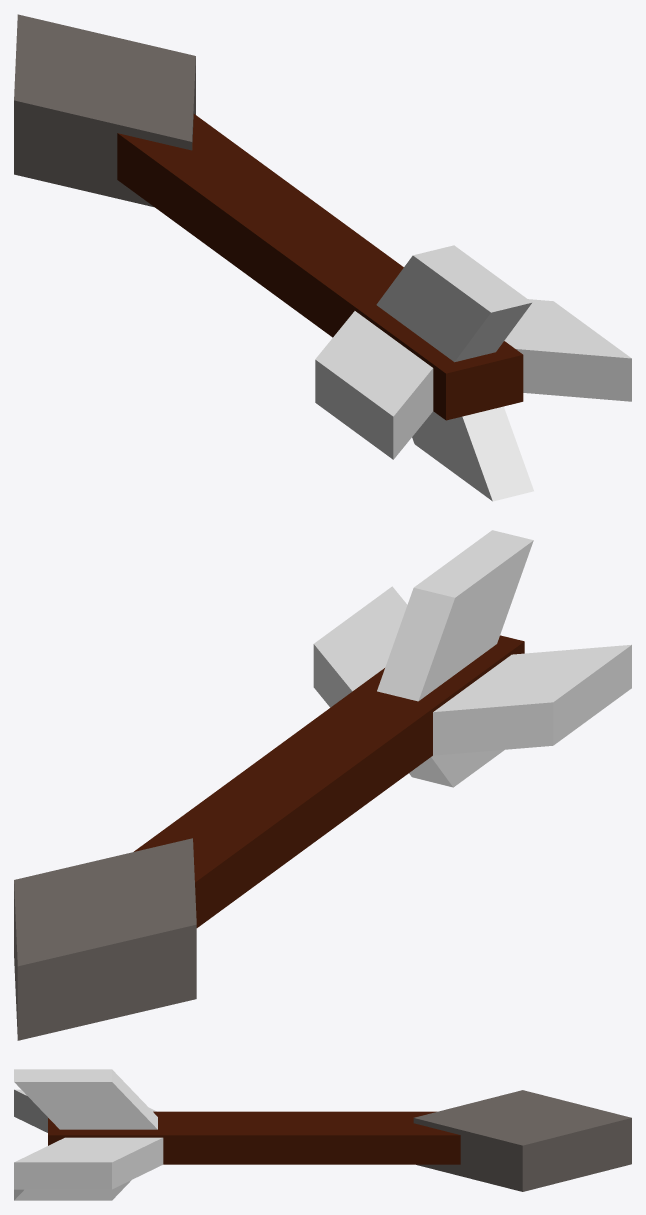
The model's file is arrow.gltf.
3 renders of one model, top to bottom at view 1: azimuth 30°, elevation 25°; view 2: azimuth 150°, elevation 25°; view 3: azimuth 270°, elevation 25°, orthographic. The views are drawn at different scales.
Visible parts, largest first — view 1: cube, cube.001, Cube.001, Cube, Cube.003, Cube.002; view 2: cube, cube.001, Cube.001, Cube, Cube.003, Cube.002; view 3: cube, cube.001, Cube.003, Cube, Cube.002, Cube.001.
Part boxes in pixels (x1=…): cube: x1=117, y1=114, x2=523, y2=420; cube.001: x1=14, y1=14, x2=195, y2=207; Cube.001: x1=315, y1=311, x2=433, y2=459; Cube: x1=376, y1=245, x2=532, y2=362; Cube.003: x1=504, y1=299, x2=631, y2=401; Cube.002: x1=412, y1=406, x2=533, y2=501; cube: x1=134, y1=635, x2=524, y2=927; cube.001: x1=14, y1=838, x2=196, y2=1040; Cube.001: x1=433, y1=644, x2=631, y2=755; Cube: x1=377, y1=530, x2=533, y2=701; Cube.003: x1=313, y1=586, x2=407, y2=707; Cube.002: x1=409, y1=749, x2=504, y2=787; cube: x1=48, y1=1111, x2=460, y2=1164; cube.001: x1=413, y1=1090, x2=631, y2=1191; Cube.003: x1=14, y1=1137, x2=163, y2=1189; Cube: x1=14, y1=1069, x2=157, y2=1129; Cube.002: x1=14, y1=1180, x2=131, y2=1200; Cube.001: x1=14, y1=1089, x2=156, y2=1132.
Size of the model in its own units: 0.1928 by 0.1462 by 0.6908.
Materials: 1 (1 with a texture image).
